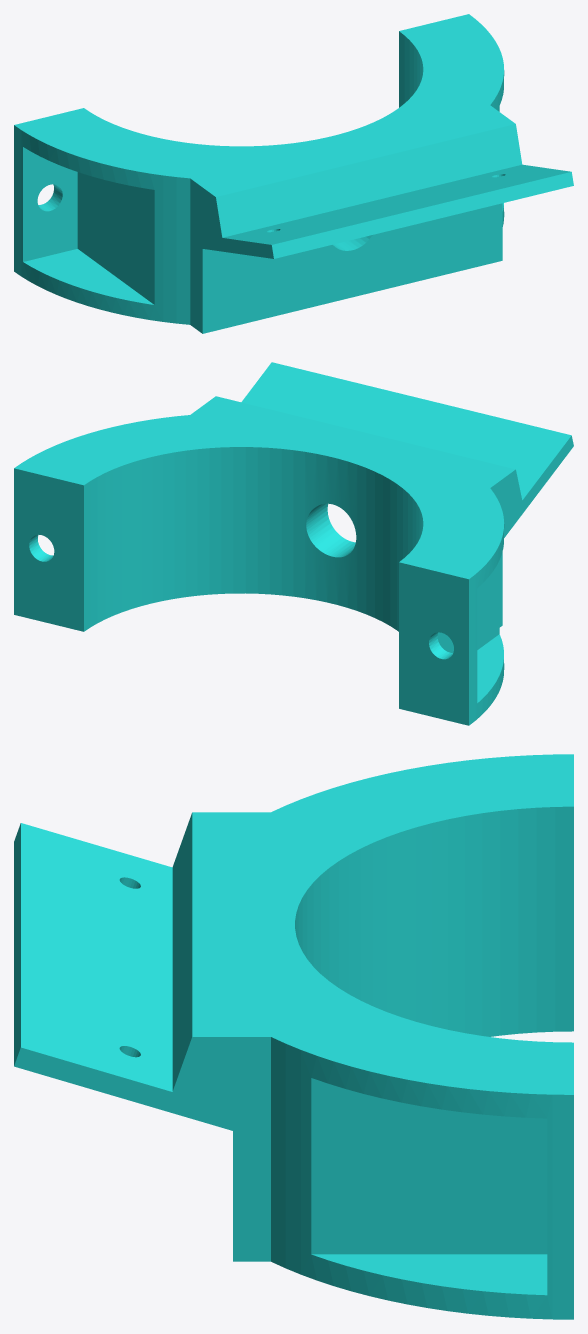
The model's file is UR3_camera_mount_hole.dae.
The picture shows the model from 3 angles, top to bottom: view 1: azimuth 30°, elevation 25°; view 2: azimuth 150°, elevation 25°; view 3: azimuth 270°, elevation 25°; orthographic projection. The views are drawn at different scales.
Visible parts, largest first — view 1: Ur3 Camera Mount Upper V2 Hole; view 2: Ur3 Camera Mount Upper V2 Hole; view 3: Ur3 Camera Mount Upper V2 Hole.
Part boxes in pixels (bbox=[...]): Ur3 Camera Mount Upper V2 Hole: bbox=[14, 14, 573, 333]; Ur3 Camera Mount Upper V2 Hole: bbox=[14, 362, 573, 725]; Ur3 Camera Mount Upper V2 Hole: bbox=[14, 754, 573, 1319].
Bounding box in the file's own units: 0.091 × 0.0632 × 0.028.
